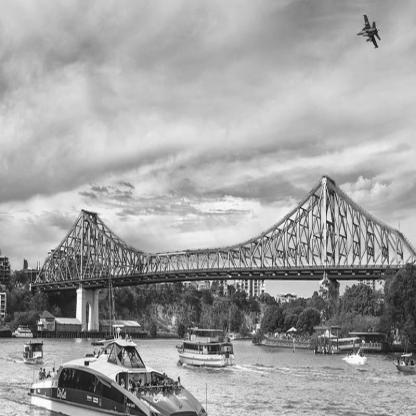F18: (357, 15, 382, 50)
